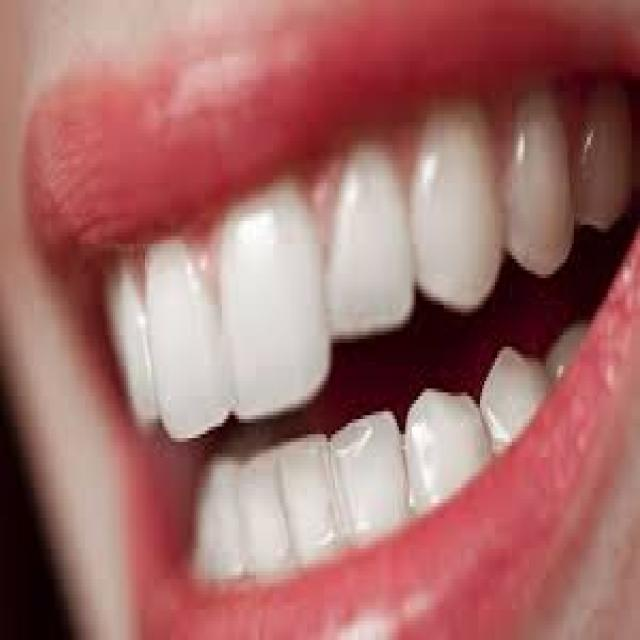tooth: (213, 191, 333, 419), (412, 72, 506, 316), (139, 236, 228, 454), (328, 164, 414, 350), (510, 84, 576, 286), (105, 267, 162, 442), (576, 80, 636, 240), (404, 392, 486, 507), (333, 412, 405, 537), (473, 346, 552, 449), (235, 442, 292, 575), (277, 431, 337, 556), (198, 442, 244, 583)
